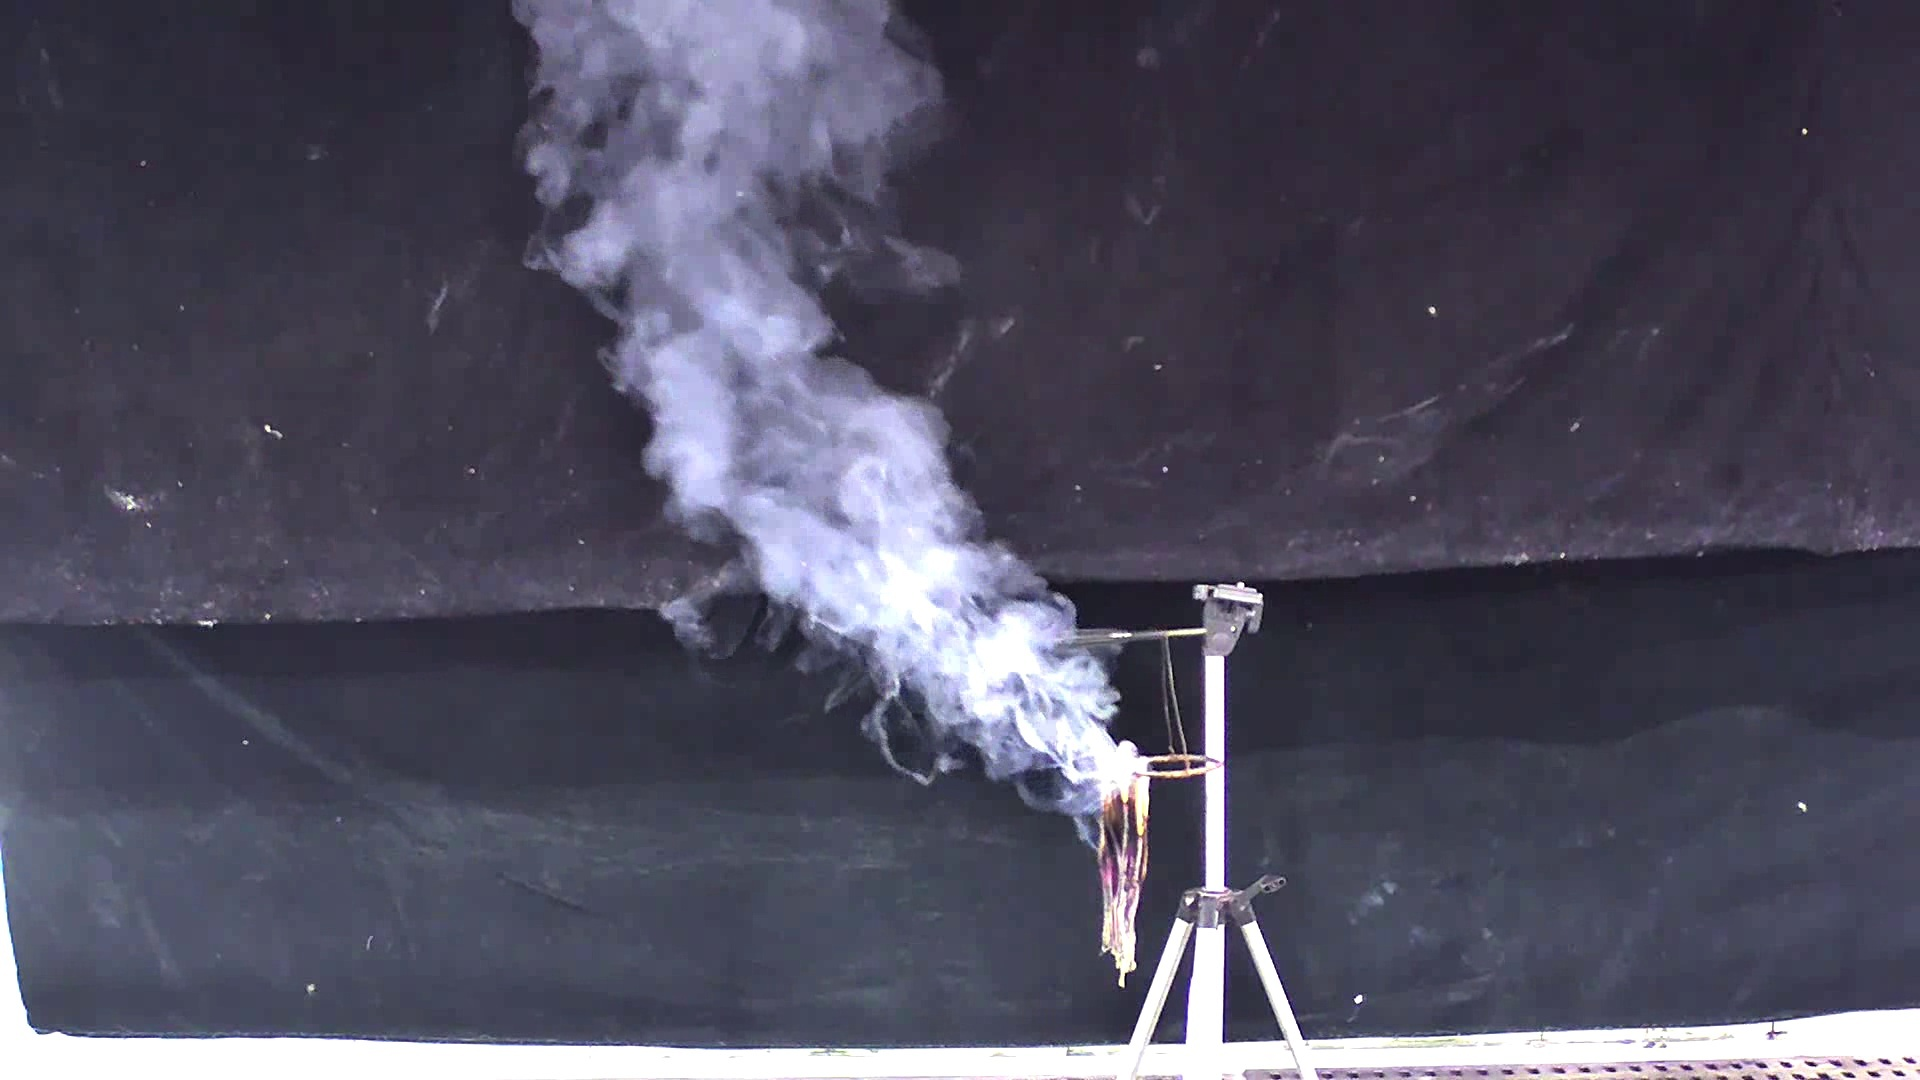smoke: (477, 1, 1142, 822)
